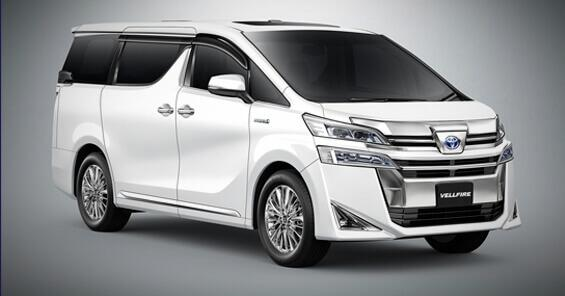van: (50, 18, 522, 269)
